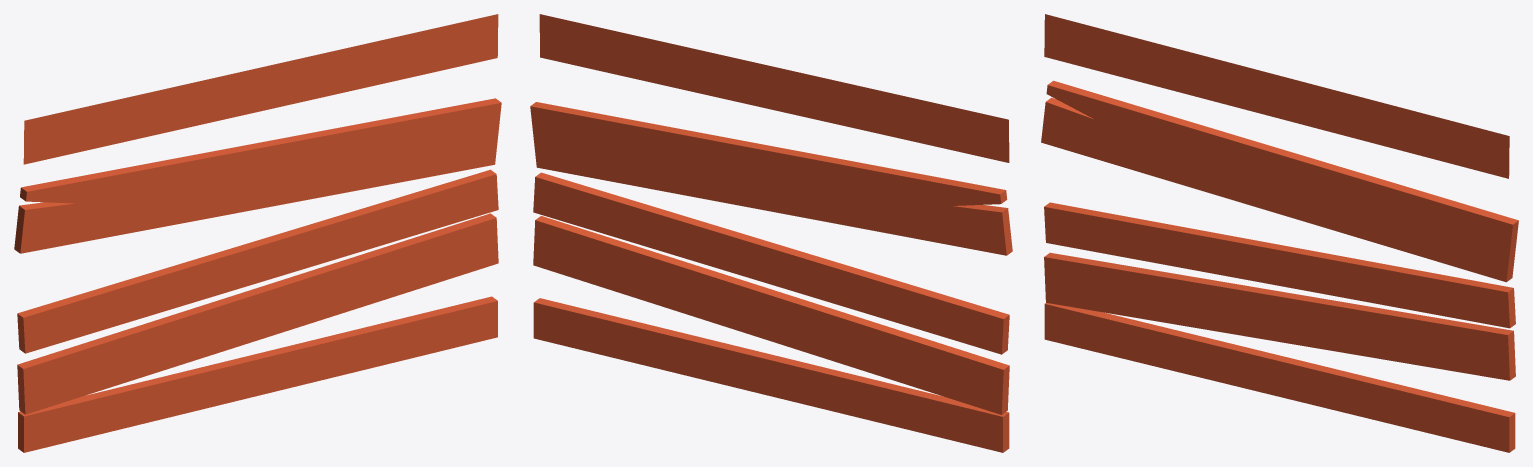
File: Planks.fbx
3 renders of one model, left to right at view 1: azimuth 30°, elevation 25°; view 2: azimuth 150°, elevation 25°; view 3: azimuth 330°, elevation 25°, orthographic. The views are drawn at different scales.
Parts seen in each view (by area): view 1: Cube.012; view 2: Cube.012; view 3: Cube.012.
Part boxes in pixels (x1,y1,x2,y2): Cube.012: (14,14,501,452); Cube.012: (530,14,1012,452); Cube.012: (1041,14,1518,452).
Bounding box in the file's own units: 333 × 220 × 7.29.
